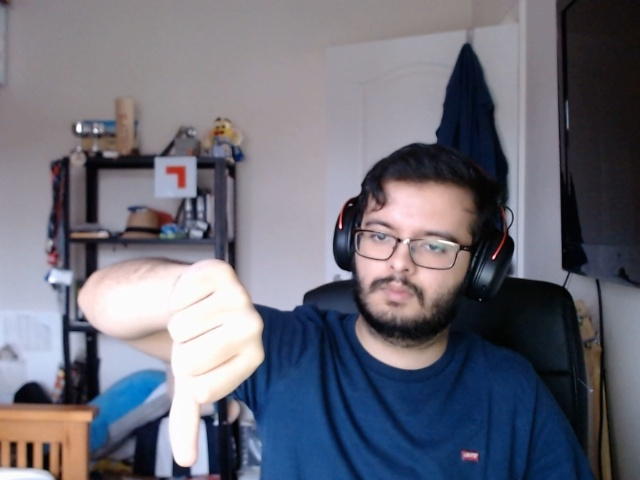Thumbs down: (140, 241, 273, 480)
